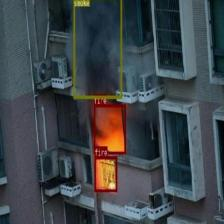fire: (93, 104, 126, 154), (94, 156, 117, 191)
smoke: (73, 0, 122, 98)
